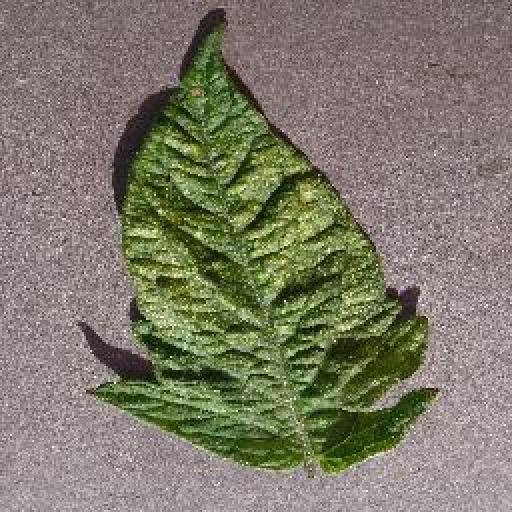Spider Mites: (88, 15, 441, 469)
